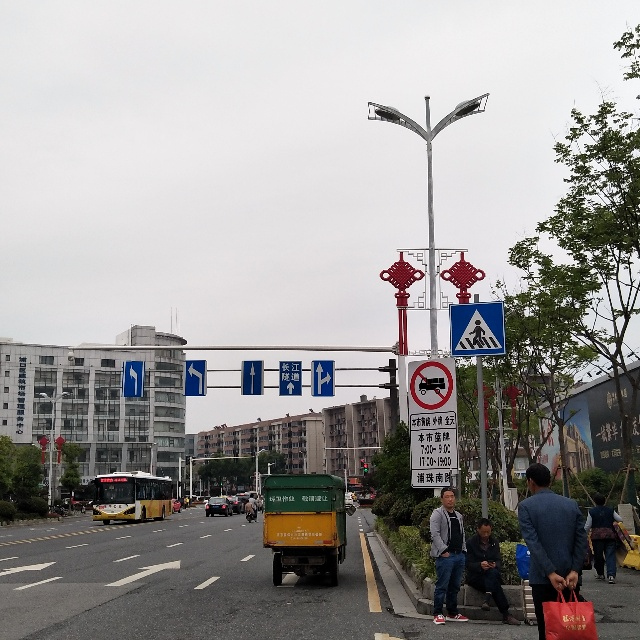crosswalk: (449, 301, 506, 357)
left: (183, 360, 207, 397), (122, 361, 143, 397)
straight: (241, 360, 264, 396)
